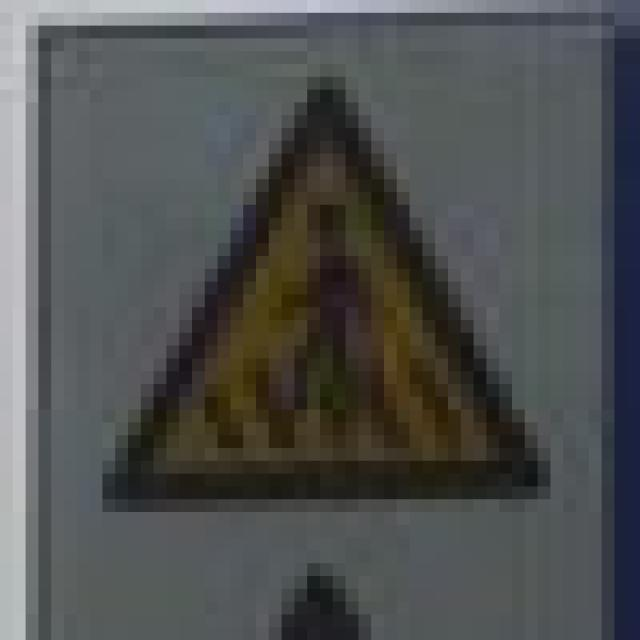pass_either_side: (76, 51, 538, 486)
